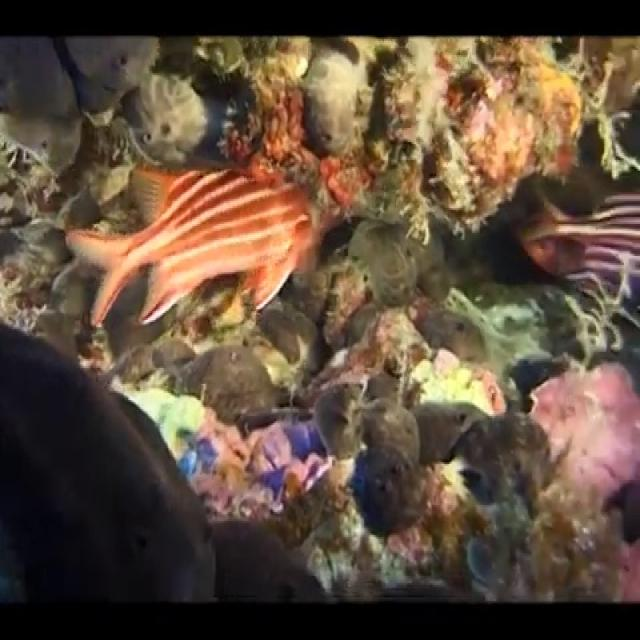Asker Baligi: (63, 158, 317, 329)
